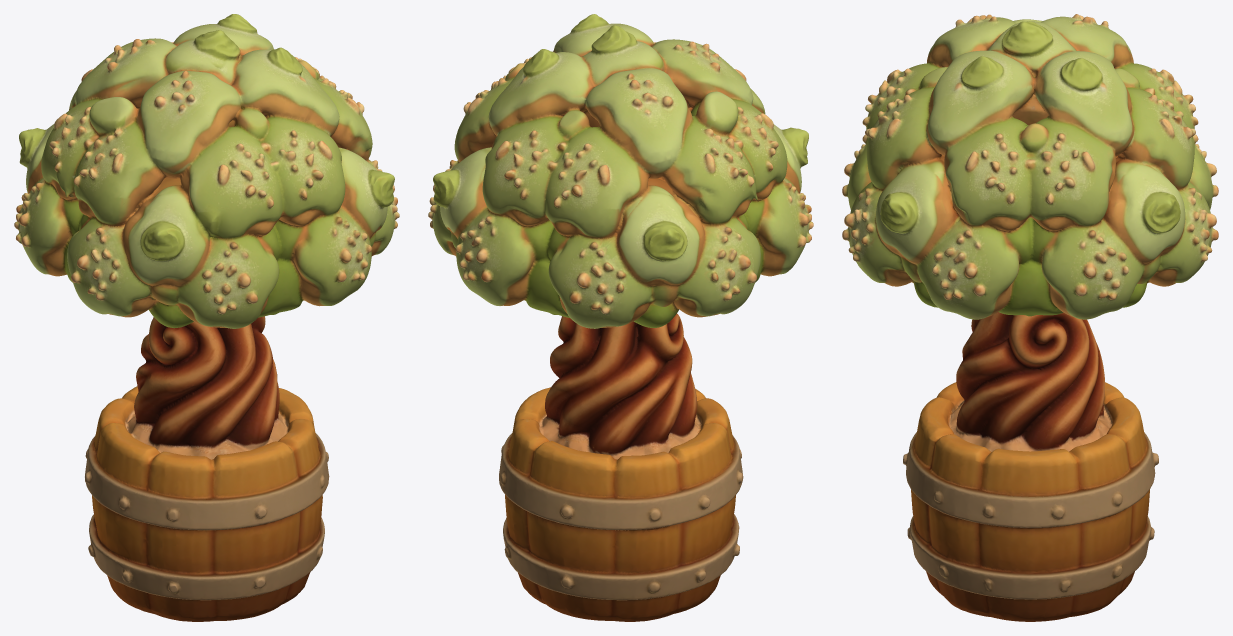
File: pistachio-tree.glb
3 renders of one model, left to right at view 1: azimuth 30°, elevation 25°; view 2: azimuth 150°, elevation 25°; view 3: azimuth 270°, elevation 25°, orthographic. The views are drawn at different scales.
Size of the model in its own units: 1.14 by 1.89 by 1.14.
Materials: 1 (1 with a texture image).
